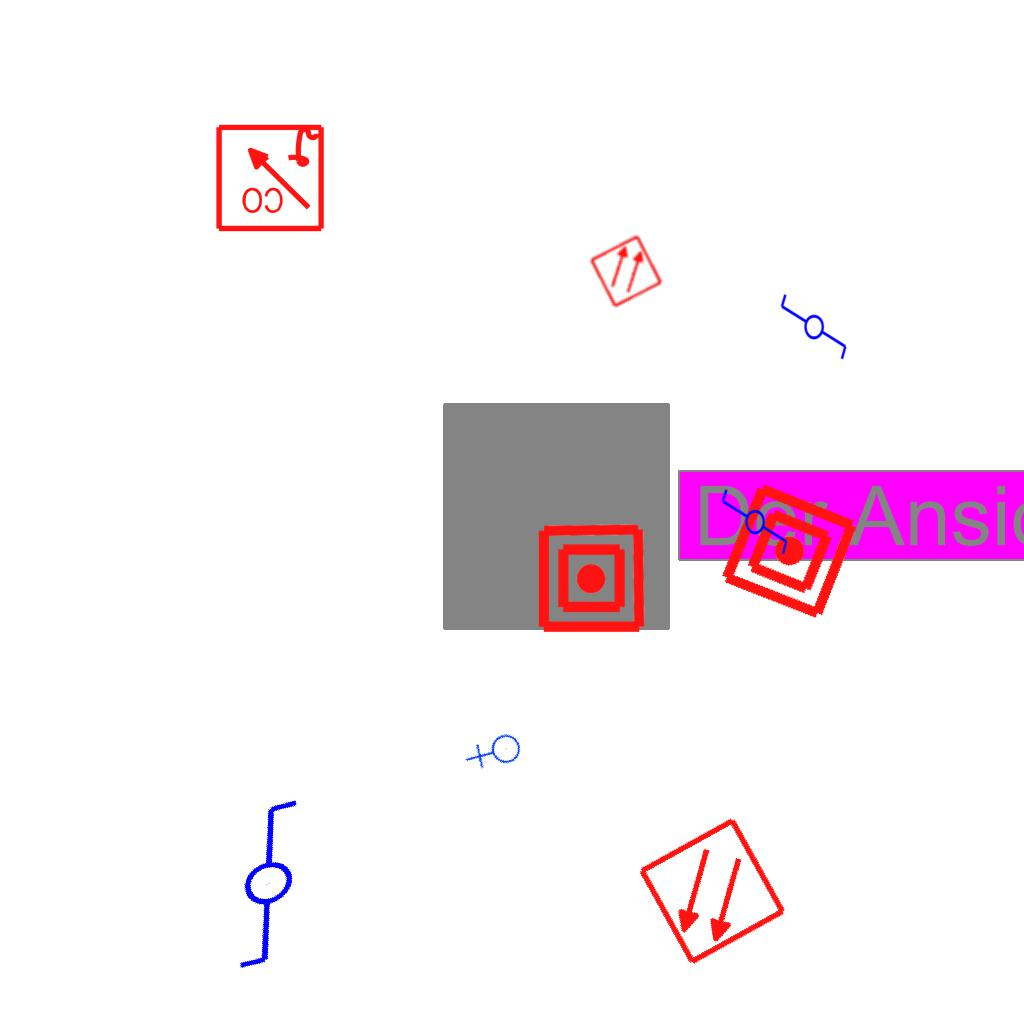Elektroanschluss_allgemein_230V_Geraeteanschlussdose_230V: (463, 721, 530, 786)
NAM-Nichtautomatischer_Melder: (715, 477, 864, 626), (535, 522, 648, 635)
RMO_Rauchmelder_optischer: (635, 814, 790, 969), (588, 233, 664, 309)
ROA_Rauchmelder_optisch_mit_Signalgeber_(Sockelsirene): (213, 120, 326, 233)
Wechselschalter: (172, 779, 381, 983), (777, 292, 849, 370), (718, 487, 790, 565)
